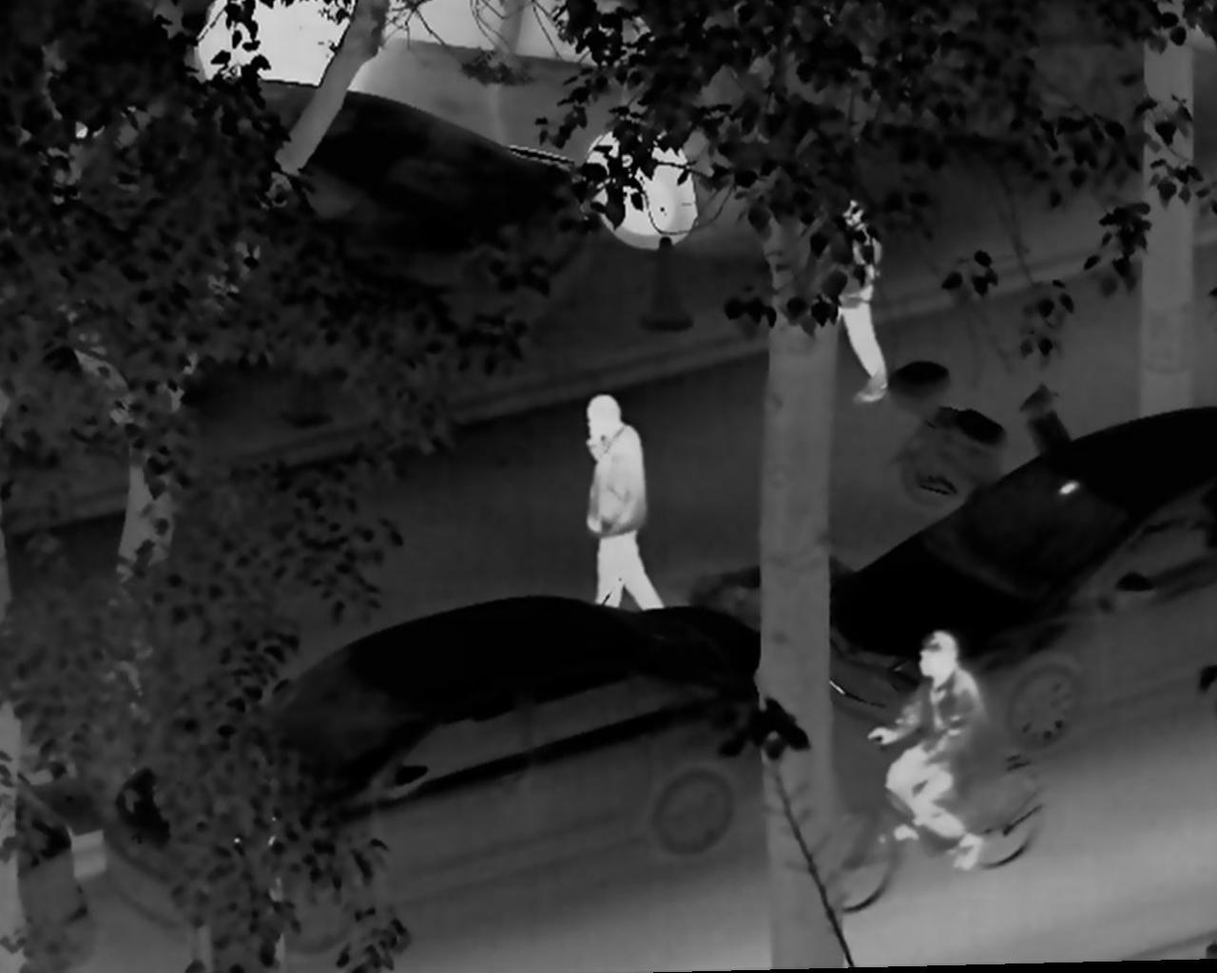person: (865, 622, 999, 876), (575, 390, 665, 616), (830, 191, 897, 408)
